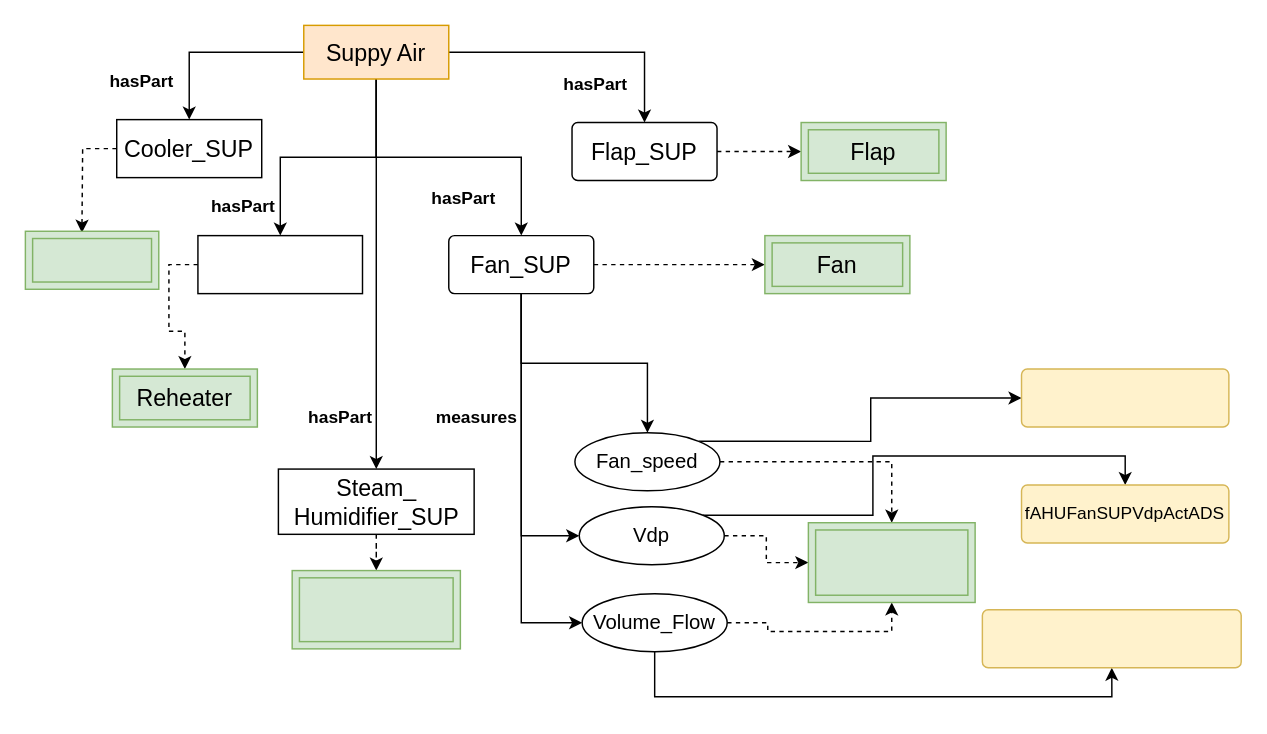
The diagram is 1267 pixels wide and 734 high, and some of its shapes have lost their labels. Each missing label, with the centre of its shape:
"Cooler" goes at (x=91, y=259).
"fAHUFanSUPVolFlowActADS" goes at (x=1111, y=638).
"fAHUFlapSUPActADS" goes at (x=1124, y=397).
"Measurable Metric" goes at (x=891, y=561).
"Reheater_SUP" goes at (x=279, y=264).
"Steam Humidifier" goes at (x=375, y=609).
